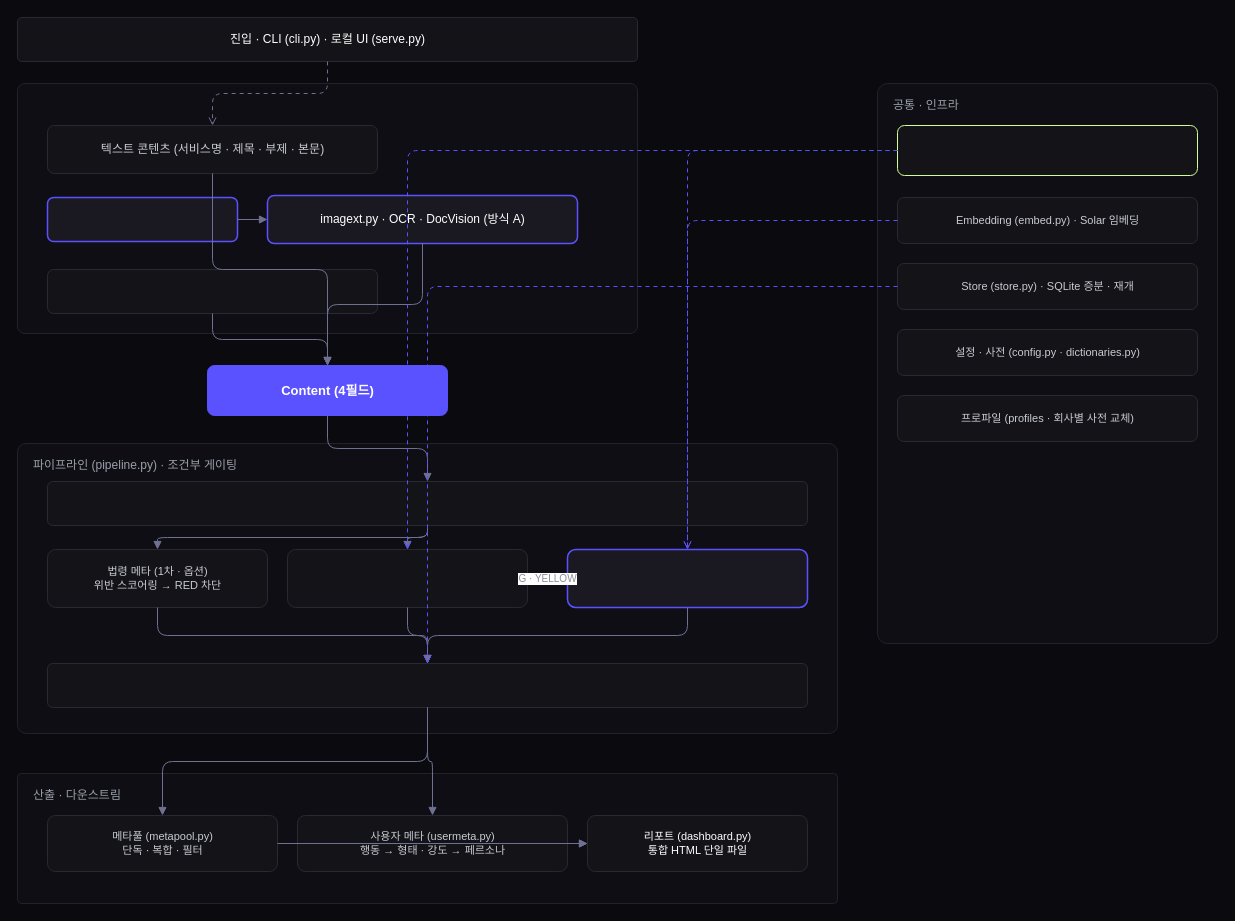
Some shapes in this 1235 by 921 pixel diagram are drawn without their labels. Each missing label, with the box of its shape:
Dispatcher (routing.py) · 서비스 그룹 · 콘텐츠 트랙(text / image_only) · 활성 메타 결정: (46, 480, 808, 526)
ingest.py · xlsx · csv · jsonl 매핑: (46, 268, 378, 314)
LLM (llm.py) Upstage Solar · OpenAI 호환: (896, 124, 1198, 176)
Verifier · Aggregator (verify.py · 규칙) → 통합 JSON + trace: (46, 662, 808, 708)
아이템 메타 리드문 · 엔티티 · 인텐트 · 콘텐츠 카테고리: (566, 548, 808, 608)
이미지 (1..N장): (46, 196, 238, 242)
입력: (16, 82, 638, 334)
품질 메타 (2차) G · R · YELLOW(사람 검수): (286, 548, 528, 608)
